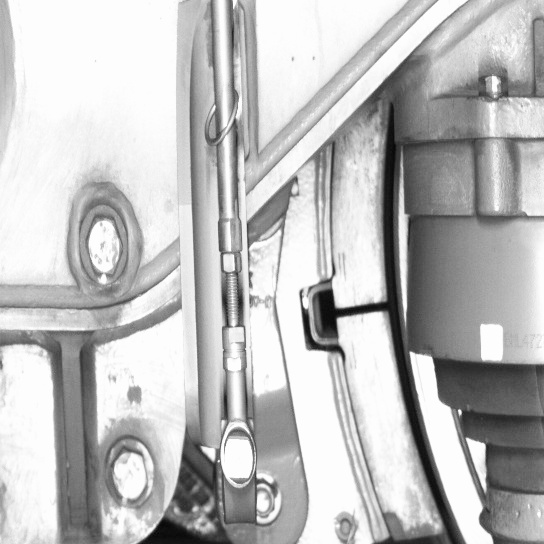KnifeSwitch: (341, 139, 466, 542)
